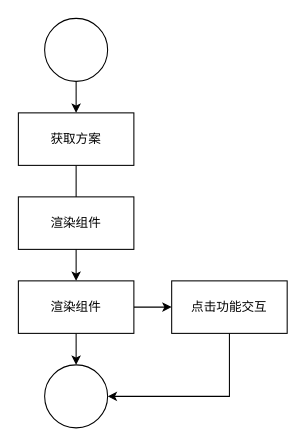
Some shapes in this 306 by 446 pixel diagram are drawn without their labels. The box of each missing label's shape, as (x1, y1, x2, y2) in pixels:
开始: (44, 17, 108, 81)
结束: (44, 364, 108, 428)
